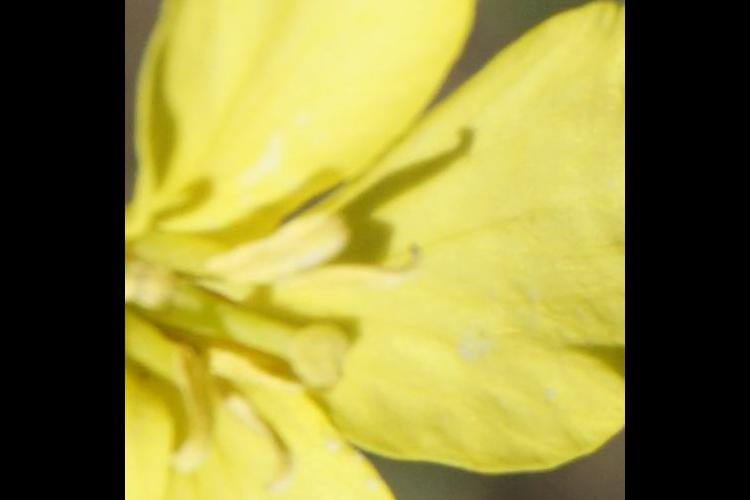yellow: (128, 1, 623, 500)
